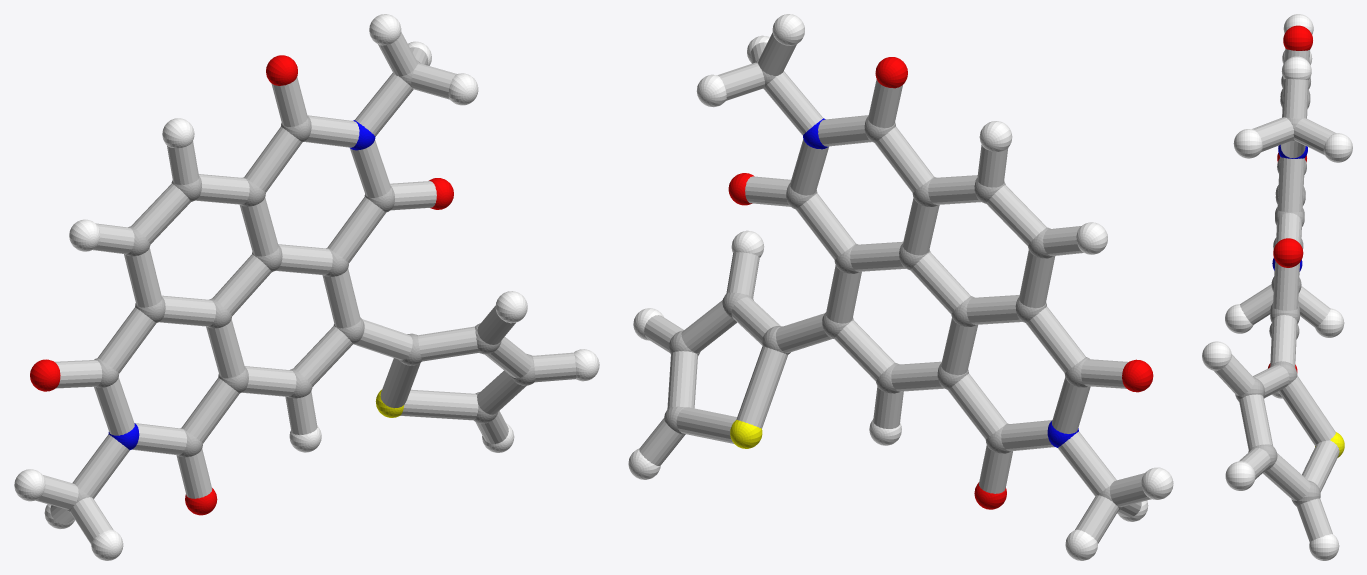
File: Dimethyl_Naphthalene_Dicarboximide_Phi_0_Theta_40_Thiophene.glb
3 views of the same model, side by side, from view 1: azimuth 30°, elevation 25°; view 2: azimuth 150°, elevation 25°; view 3: azimuth 270°, elevation 25° (orthographic). The views are drawn at different scales.
Parts seen in each view (by area): view 1: grp14119, grp7241, grp1, grp12309, grp11585; view 2: grp14119, grp7241, grp1, grp12309, grp13757, grp11585; view 3: grp14119, grp7241, grp1, grp12309.
Boxes of the visible parts, x1,y1,x2,y2 form: grp14119: [36, 32, 576, 544]; grp7241: [14, 14, 599, 560]; grp1: [66, 60, 535, 512]; grp12309: [30, 55, 453, 515]; grp11585: [108, 120, 375, 449]; grp14119: [639, 32, 1151, 543]; grp7241: [628, 14, 1173, 560]; grp1: [664, 59, 1123, 509]; grp12309: [728, 57, 1153, 509]; grp13757: [730, 420, 762, 448]; grp11585: [803, 118, 1078, 447]; grp14119: [1214, 48, 1339, 541]; grp7241: [1202, 14, 1352, 560]; grp1: [1235, 76, 1320, 506]; grp12309: [1268, 25, 1312, 372].
Size of the model in its own units: 11.92 by 9.8 by 3.02.
